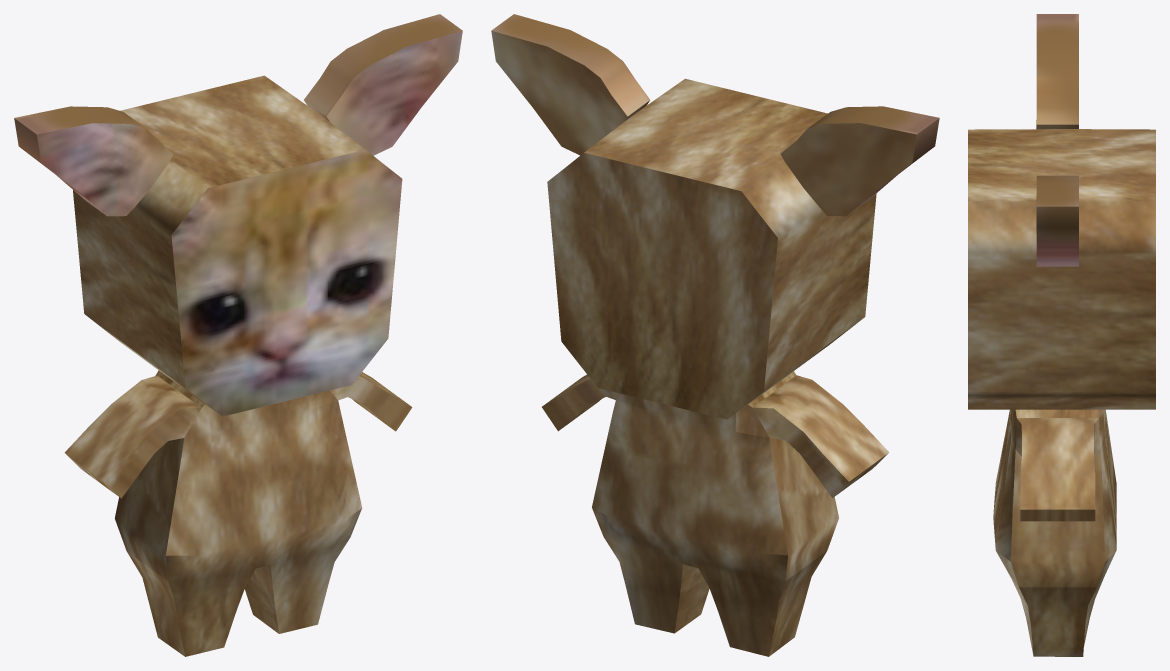
File: cat.fbx
3 renders of one model, left to right at view 1: azimuth 30°, elevation 25°; view 2: azimuth 150°, elevation 25°; view 3: azimuth 270°, elevation 25°, orthographic. The views are drawn at different scales.
Parts seen in each view (by area): view 1: cat; view 2: cat; view 3: cat.
Part boxes in pixels (left/top/right/bottom): cat: left=14, top=14, right=462, bottom=656; cat: left=491, top=14, right=939, bottom=656; cat: left=968, top=14, right=1155, bottom=656.
Bounding box in the file's own units: 1.84 × 2.3 × 0.7598.
Materials: 1 (1 with a texture image).
